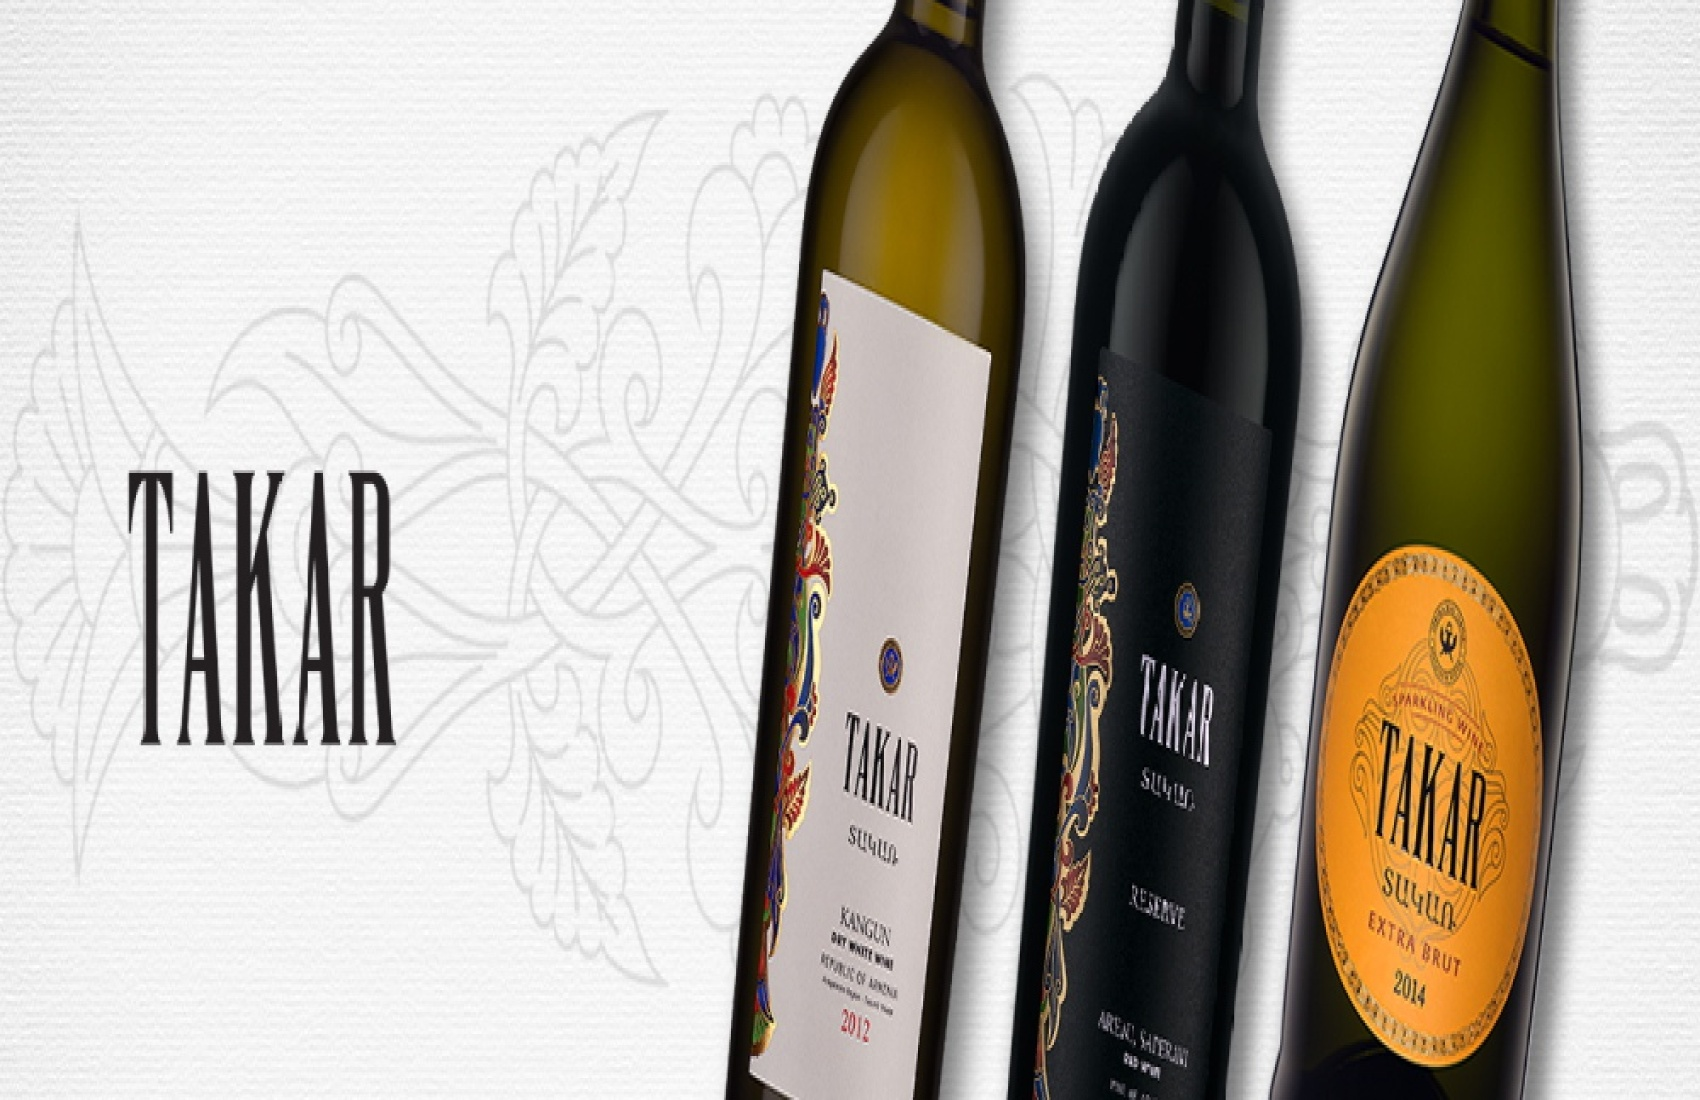wine: (730, 9, 1023, 1100), (1291, 1, 1585, 1090)
